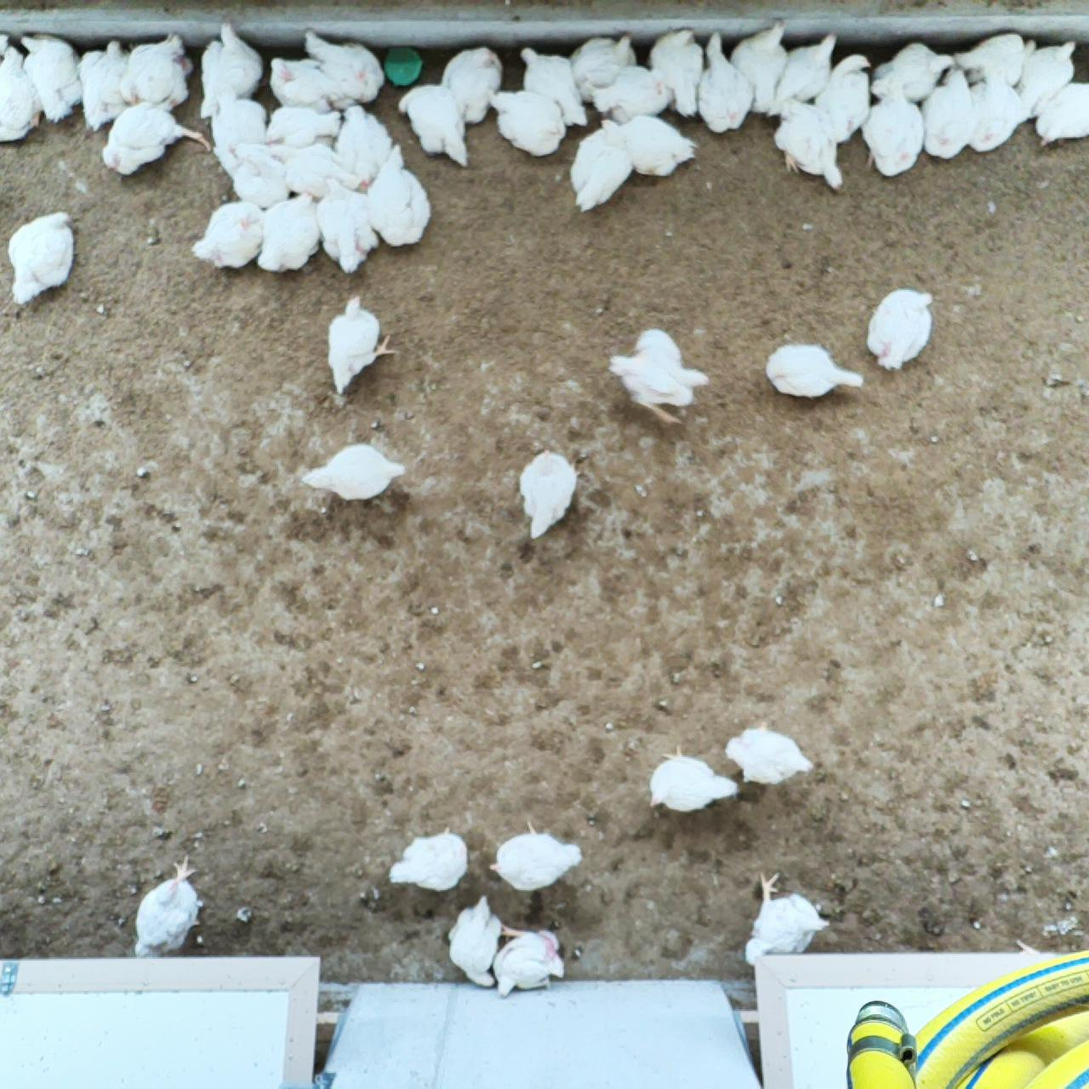chicken: (606, 327, 713, 425), (100, 100, 211, 181), (744, 869, 835, 967), (127, 852, 207, 958), (322, 291, 401, 395), (485, 817, 590, 894), (197, 13, 266, 120), (515, 445, 591, 540), (367, 144, 435, 249), (6, 208, 76, 309), (300, 438, 407, 504), (644, 744, 742, 815), (385, 818, 475, 895), (691, 30, 755, 138), (774, 97, 846, 193), (569, 105, 629, 214), (861, 83, 927, 181), (761, 340, 865, 402), (316, 176, 381, 275), (864, 287, 938, 373), (398, 82, 471, 169), (768, 30, 840, 118), (303, 25, 384, 103), (727, 15, 790, 115), (724, 717, 818, 784), (597, 115, 695, 179), (17, 31, 83, 126), (517, 44, 589, 130), (256, 188, 324, 277), (486, 925, 567, 998), (445, 895, 505, 992), (125, 28, 194, 112), (486, 87, 567, 158), (73, 38, 132, 135), (922, 64, 978, 164), (332, 105, 397, 191), (870, 40, 956, 104), (188, 201, 262, 275), (438, 46, 507, 124), (816, 53, 875, 144), (212, 147, 292, 211), (570, 29, 640, 102), (648, 26, 703, 118), (969, 76, 1031, 157), (281, 144, 372, 197), (589, 63, 672, 120), (955, 31, 1039, 87), (0, 43, 45, 147), (1018, 38, 1080, 108), (209, 85, 271, 149), (1033, 82, 1089, 147), (270, 55, 336, 110), (265, 106, 340, 151)
